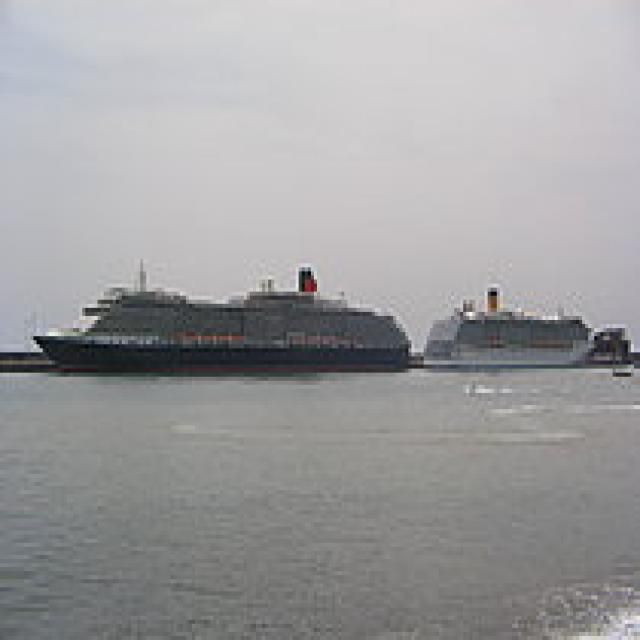Cruise: (24, 259, 412, 377), (418, 276, 594, 368)
